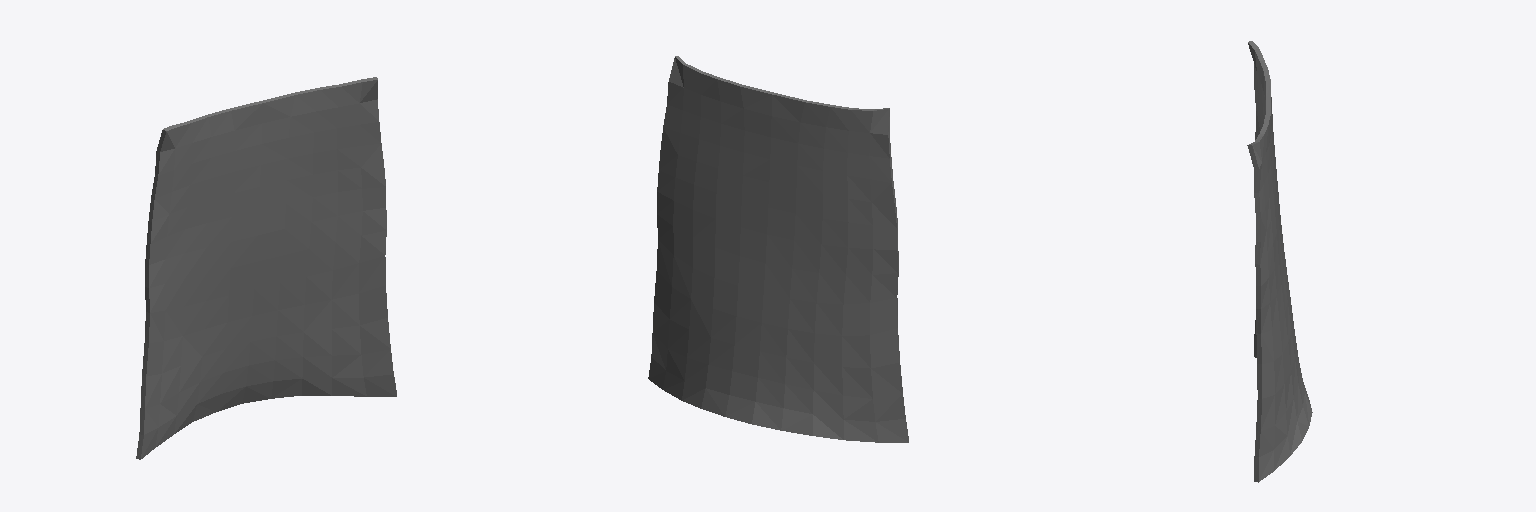
File: LowPoly_Aristocrata_CapaBaixo.obj
3 renders of one model, left to right at view 1: azimuth 30°, elevation 25°; view 2: azimuth 150°, elevation 25°; view 3: azimuth 270°, elevation 25°, orthographic.
Visible parts, largest first — view 1: LowPoly_Aristocrata_CapaBaixo; view 2: LowPoly_Aristocrata_CapaBaixo; view 3: LowPoly_Aristocrata_CapaBaixo.
Boxes of the visible parts, x1=… form: LowPoly_Aristocrata_CapaBaixo: x1=136, y1=77, x2=396, y2=459; LowPoly_Aristocrata_CapaBaixo: x1=648, y1=56, x2=908, y2=442; LowPoly_Aristocrata_CapaBaixo: x1=1247, y1=41, x2=1312, y2=482.
Bounding box in the file's own units: 76.74 × 91.62 × 16.58.